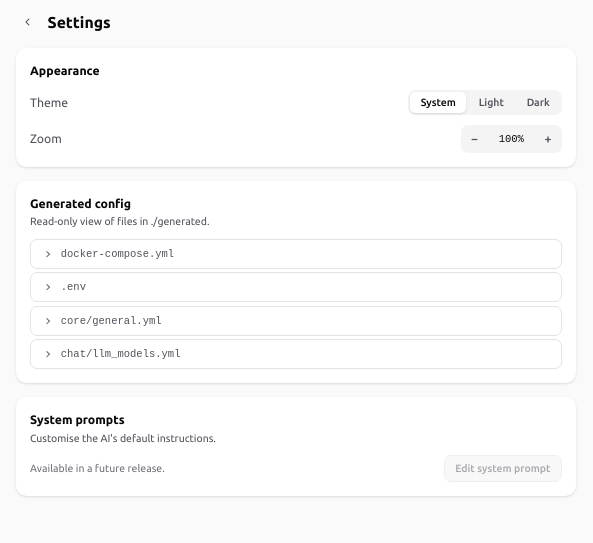
Test: settings/+page.svelte › shows error when readFile rejects
This screenshot has width=593, height=543.
Click the button with test id "toggle-.env".
click(48, 287)  # box [31,273,561,301]
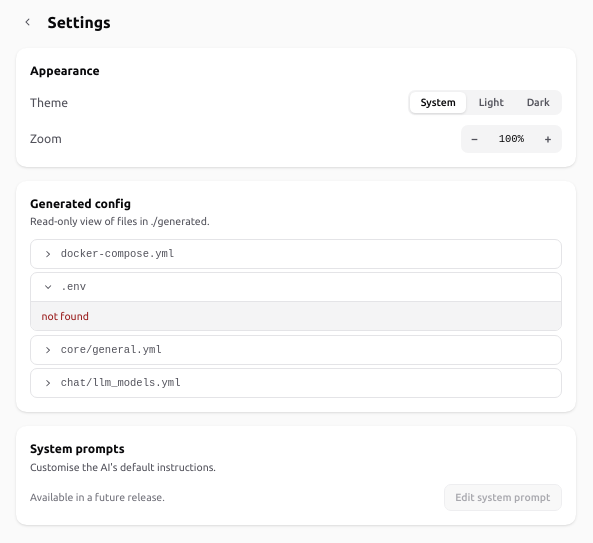
Expected: the text with test id "error-.env" reads "not found", [42,310,89,322]
